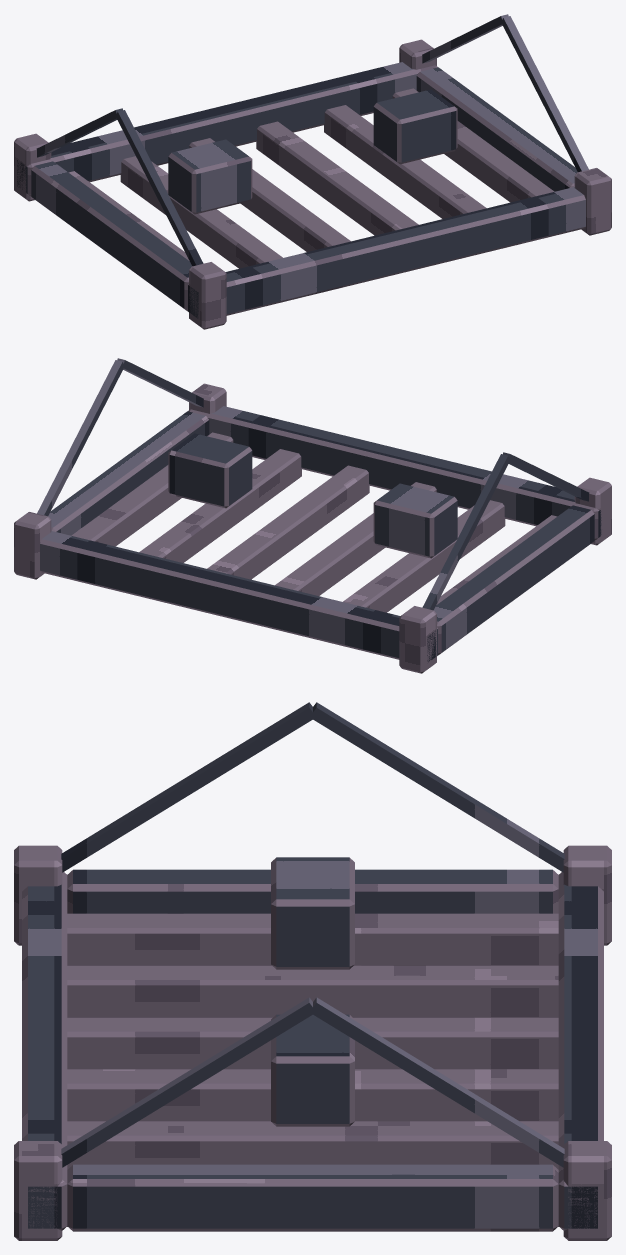
File: placed_uv_panel_6_lit_body.obj
3 renders of one model, top to bottom at view 1: azimuth 30°, elevation 25°; view 2: azimuth 150°, elevation 25°; view 3: azimuth 270°, elevation 25°, orthographic. The views are drawn at different scales.
Parts seen in each view (by area): view 1: model; view 2: model; view 3: model.
Part boxes in pixels (x1,y1,x2,y2): model: (14,14,611,329); model: (14,358,611,673); model: (14,702,611,1240).
Bounding box in the file's own units: 1.44 × 0.5072 × 1.16.
